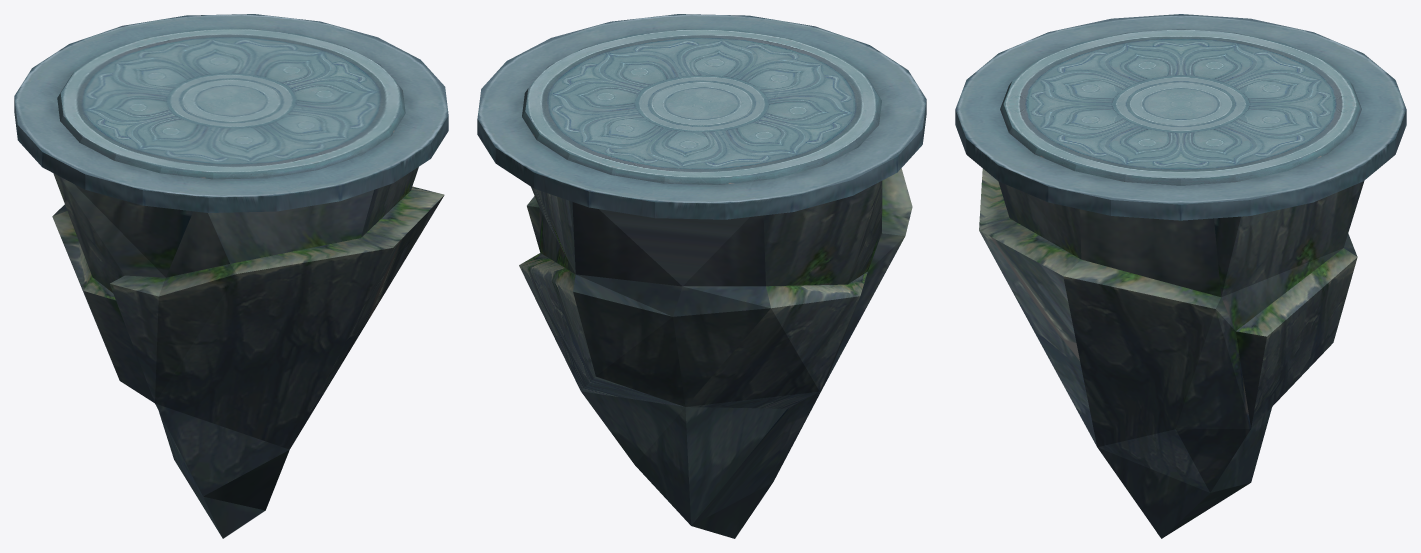
Rendered from W3_HD_GongHuiBoss_dizuo_01_01_D.FBX.
3 views of the same model, side by side, from view 1: azimuth 30°, elevation 25°; view 2: azimuth 150°, elevation 25°; view 3: azimuth 270°, elevation 25° (orthographic). The views are drawn at different scales.
Visible parts, largest first — view 1: W3_HD_GongHuiBoss_dizuo_01_01_D; view 2: W3_HD_GongHuiBoss_dizuo_01_01_D; view 3: W3_HD_GongHuiBoss_dizuo_01_01_D.
Part boxes in pixels (<box>): W3_HD_GongHuiBoss_dizuo_01_01_D: <box>14,14,448,538</box>; W3_HD_GongHuiBoss_dizuo_01_01_D: <box>477,14,926,538</box>; W3_HD_GongHuiBoss_dizuo_01_01_D: <box>955,14,1406,538</box>.
Bounding box in the file's own units: 11.96 × 12.83 × 11.96.
